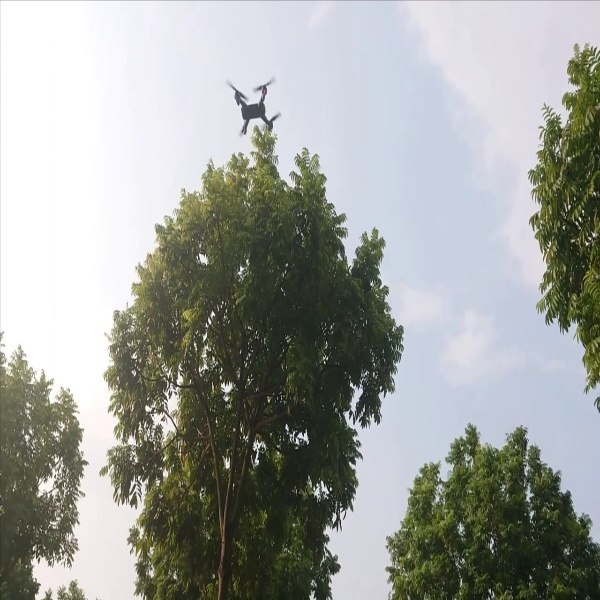drone: (220, 71, 282, 137)
